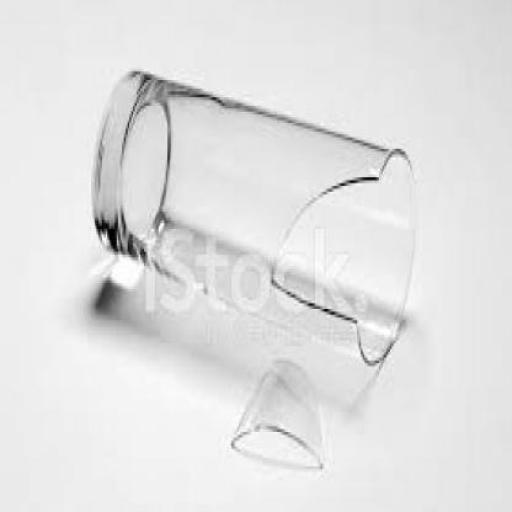glass: (90, 65, 426, 369), (230, 358, 320, 470)
